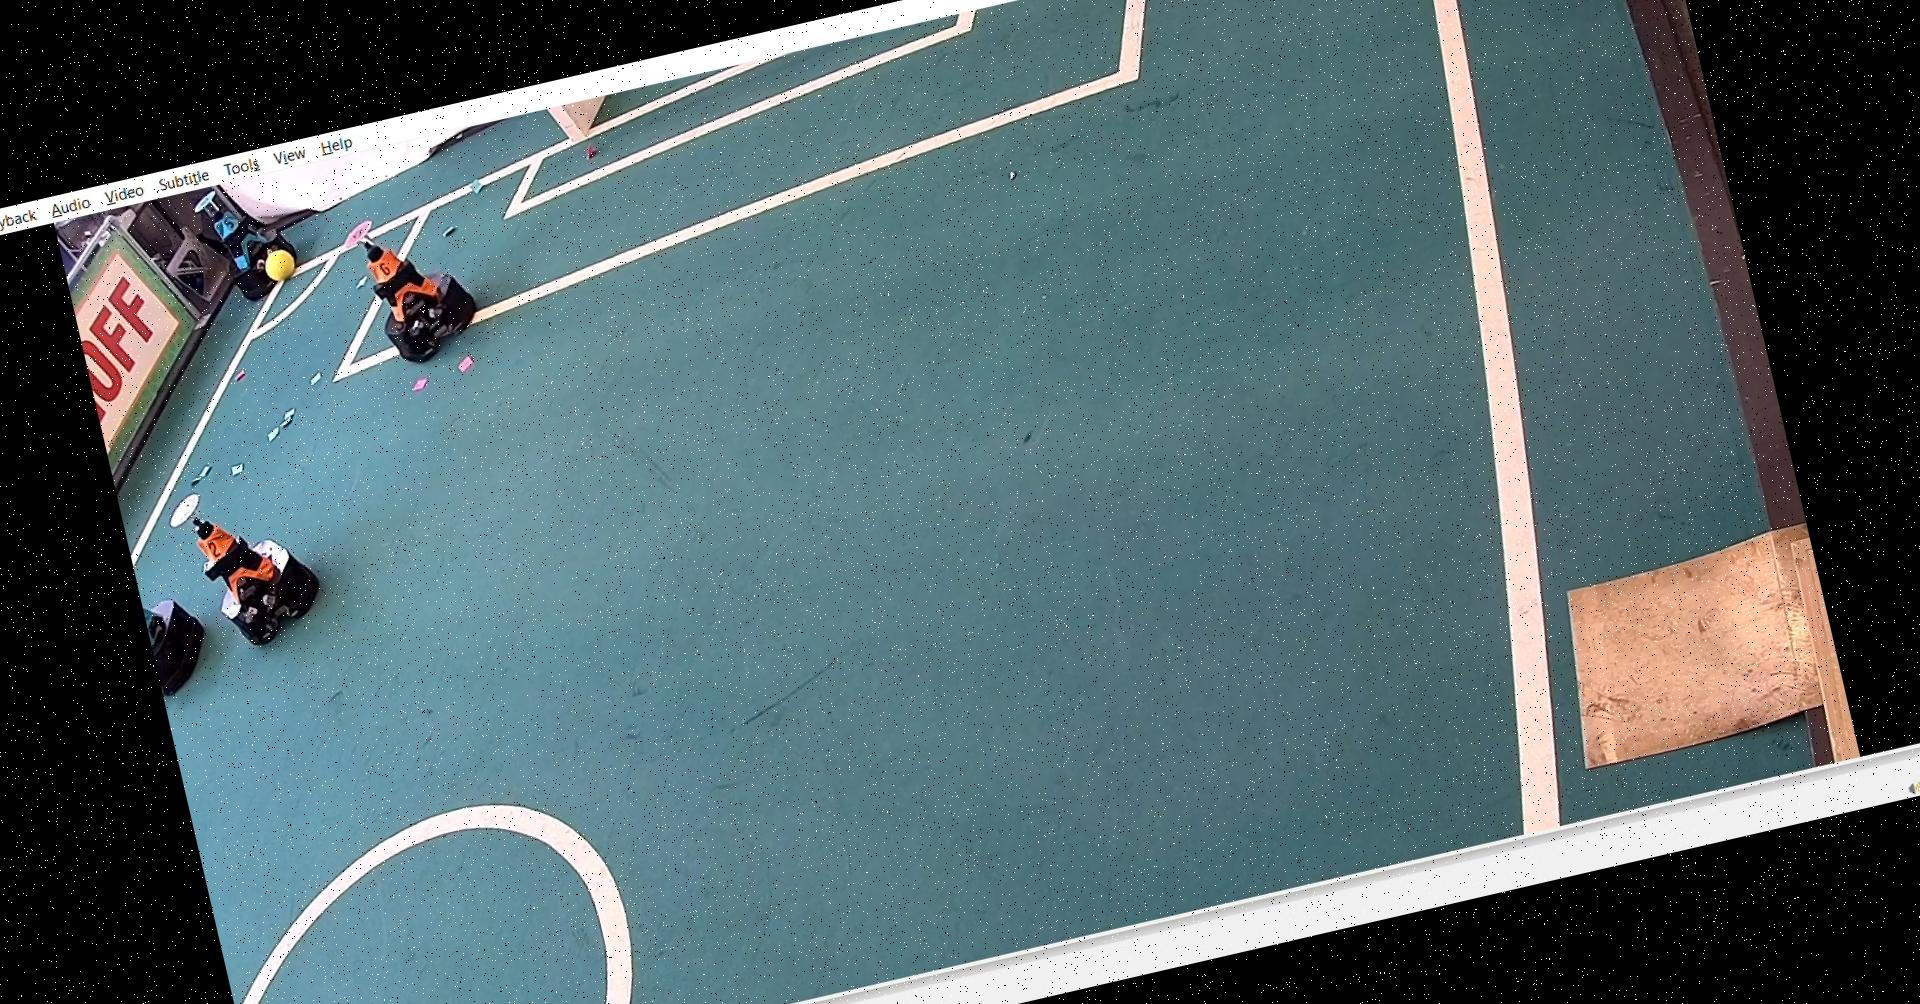Ball: (251, 242, 301, 287)
Team_Blue: (188, 175, 311, 310)
Team_Red: (159, 457, 342, 663), (338, 193, 489, 373)
